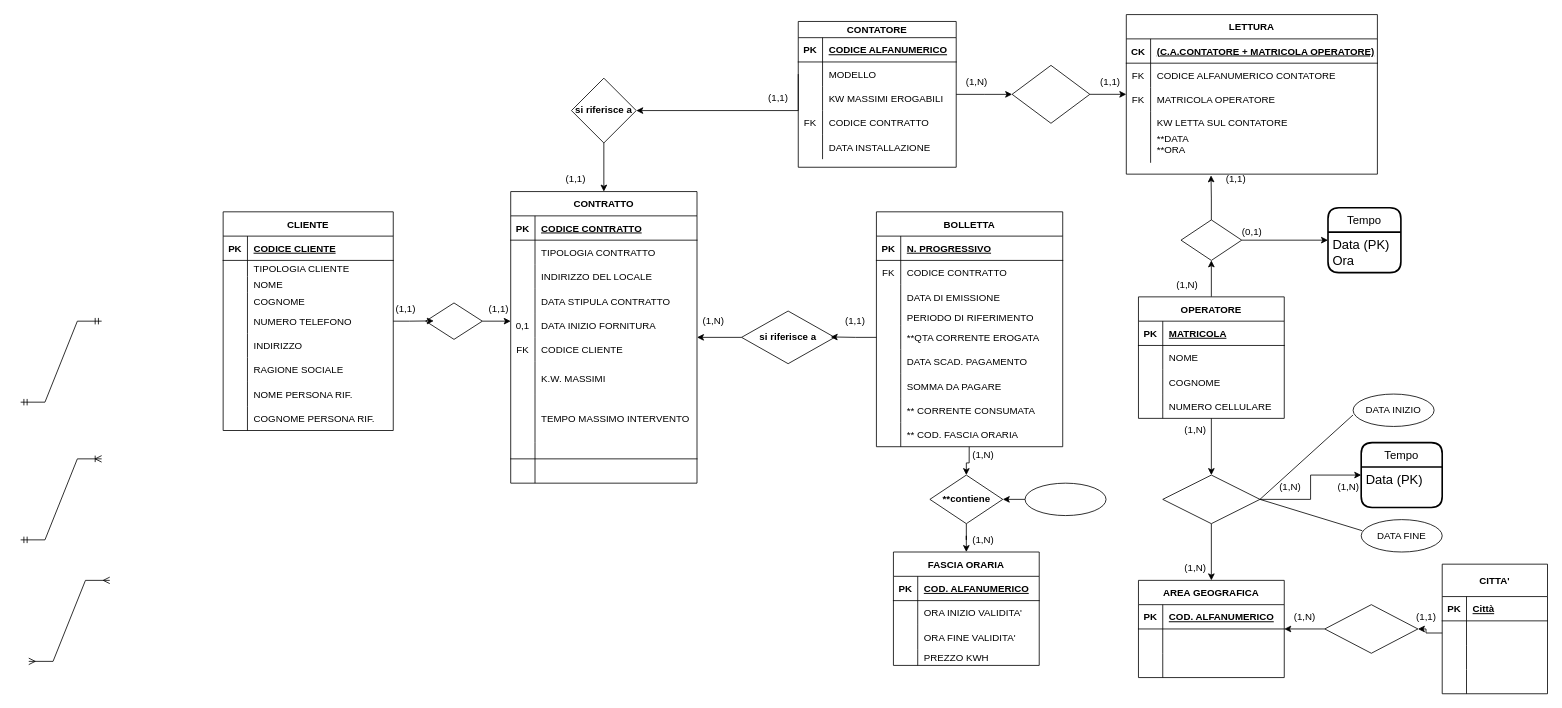
This 1562x708 diagram has some shape labels left out. Each missing label, with the centre of its shape:
**CONSUMO: (x=1065, y=499)
**LAVORA IN: (x=1211, y=499)
APPARTIENE A: (x=1371, y=628)
effettua: (x=1211, y=239)
Registra: (x=1050, y=94)
STIPULA: (x=453, y=320)
